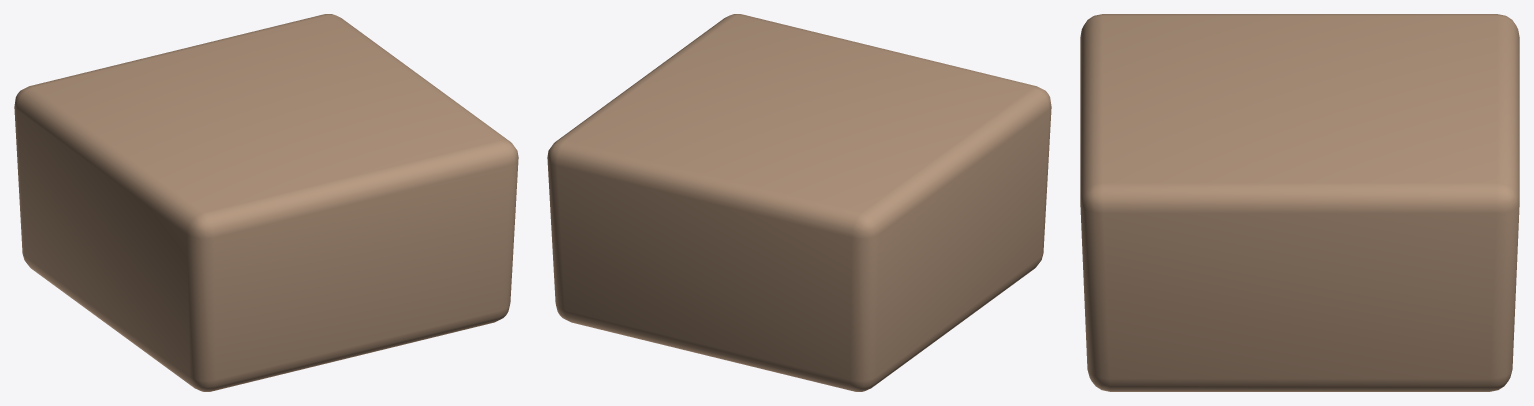
Rendered from block.fbx.
3 views of the same model, side by side, from view 1: azimuth 30°, elevation 25°; view 2: azimuth 150°, elevation 25°; view 3: azimuth 270°, elevation 25° (orthographic). The views are drawn at different scales.
Visible parts, largest first — view 1: Block; view 2: Block; view 3: Block.
Boxes of the visible parts, x1=… form: Block: x1=14, y1=14, x2=518, y2=391; Block: x1=547, y1=14, x2=1051, y2=391; Block: x1=1080, y1=14, x2=1519, y2=391.
Bounding box in the file's own units: 0.9462 × 0.5 × 0.9462.
